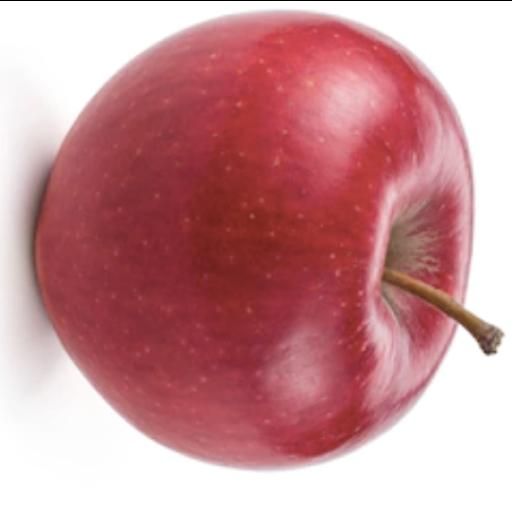apple: (35, 13, 471, 468)
